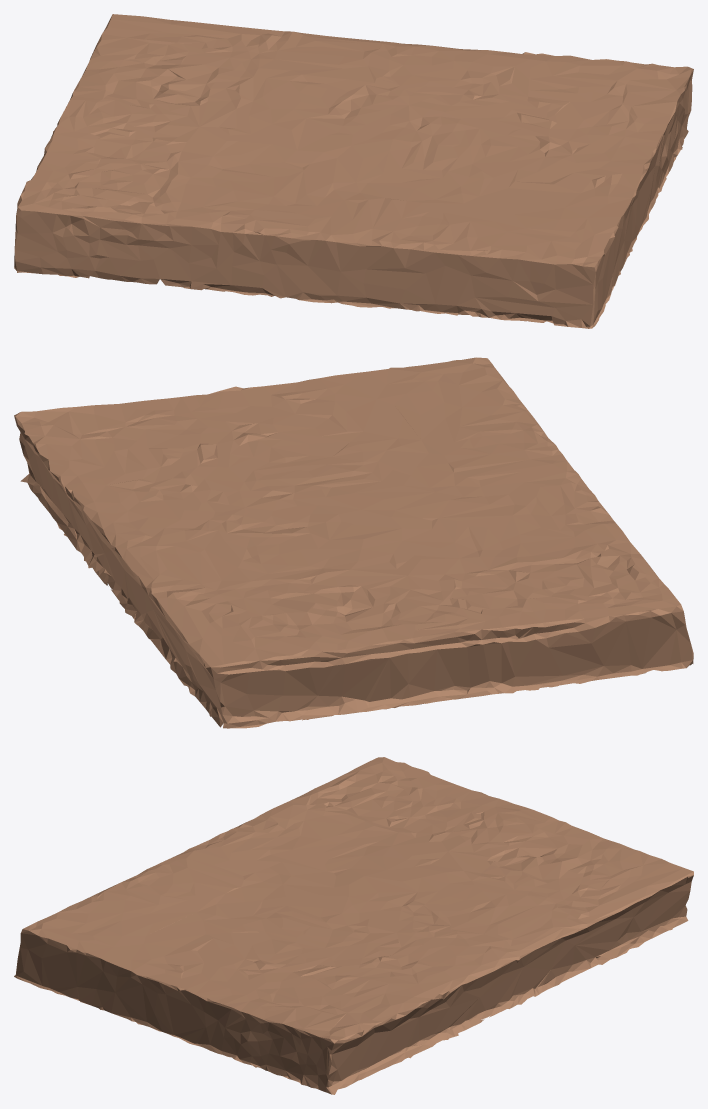
The picture shows the model from 3 angles, top to bottom: view 1: azimuth 30°, elevation 25°; view 2: azimuth 150°, elevation 25°; view 3: azimuth 270°, elevation 25°; orthographic projection. The views are drawn at different scales.
Parts seen in each view (by area): view 1: BD; view 2: BD; view 3: BD.
Boxes of the visible parts, x1=… form: BD: x1=14, y1=14, x2=693, y2=328; BD: x1=14, y1=357, x2=693, y2=728; BD: x1=14, y1=757, x2=693, y2=1094.
Size of the model in its own units: 31.79 by 3.14 by 31.42.
